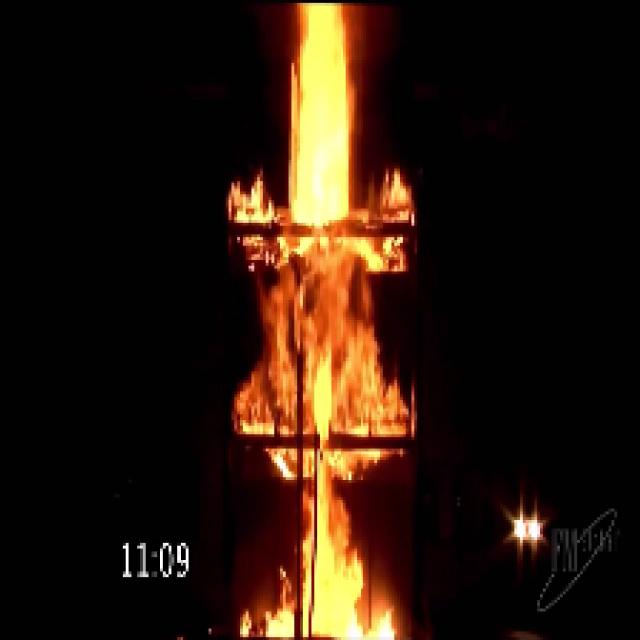fire: (264, 1, 377, 639)
